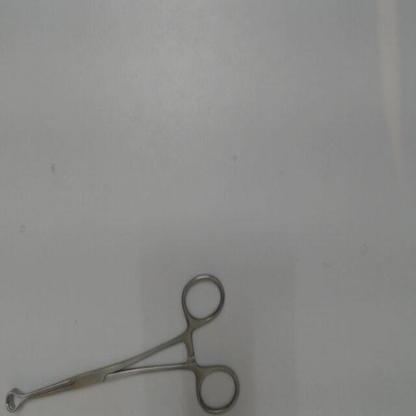Babcock Tissue Forceps: (1, 268, 243, 415)
